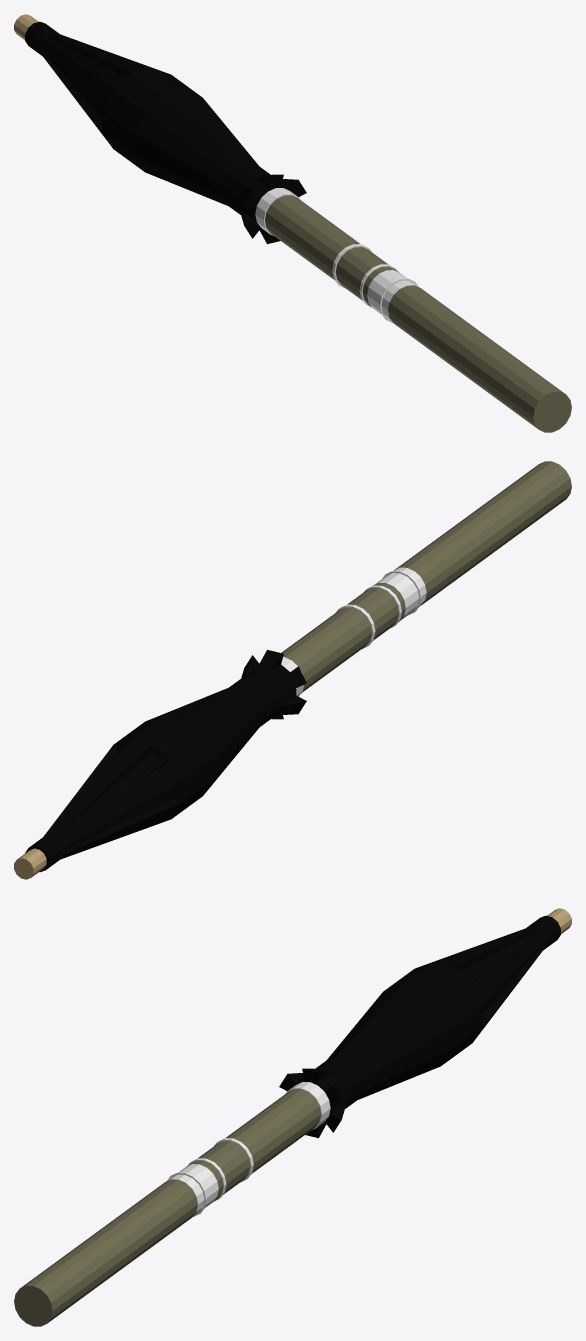
The model's file is rocket.glb.
The picture shows the model from 3 angles, top to bottom: view 1: azimuth 30°, elevation 25°; view 2: azimuth 150°, elevation 25°; view 3: azimuth 330°, elevation 25°; orthographic projection.
Parts seen in each view (by area): view 1: Cylinder, booster, engine; view 2: Cylinder, booster, engine; view 3: Cylinder, booster, engine.
Part boxes in pixels (x1,y1,x2,y2): Cylinder: [14, 14, 306, 244]; booster: [379, 278, 571, 432]; engine: [255, 188, 406, 314]; Cylinder: [14, 649, 306, 879]; booster: [382, 461, 571, 614]; engine: [281, 573, 419, 696]; Cylinder: [279, 908, 571, 1138]; booster: [14, 1172, 206, 1326]; engine: [179, 1082, 330, 1208].
Bounding box in the file's own units: 0.0708 × 0.0708 × 0.8211.
